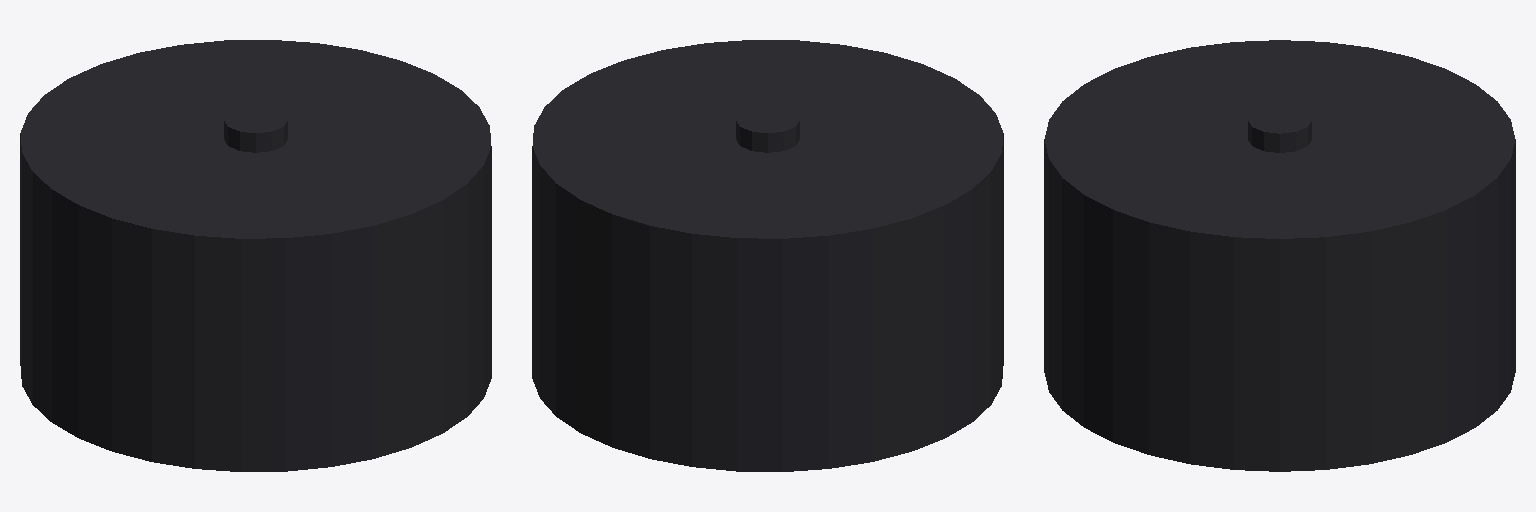
The robot description file, URDF, robot "cb_button_key_dot3":
<?xml version="1.0"?>
<!-- A15 keypad key (dot3). Generated by FoundationTouch tools/contactbench/button_assets.py -->
<robot name="cb_button_key_dot3">
  <material name="c"><color rgba="0.20 0.20 0.22 1.0"/></material>
  <link name="object">
    <visual><origin xyz="0 0 0" rpy="0 0 0"/><geometry><mesh filename="button_key_dot3.obj" scale="1 1 1"/></geometry><material name="c"/></visual>
    <collision><origin xyz="0 0 0" rpy="0 0 0"/><geometry><mesh filename="coll_00.obj" scale="1 1 1"/></geometry></collision>
    <collision><origin xyz="0 0 0" rpy="0 0 0"/><geometry><mesh filename="coll_01.obj" scale="1 1 1"/></geometry></collision>
    <inertial><mass value="0.005000"/><origin xyz="0 0 0" rpy="0 0 0"/><inertia ixx="2.112500e-07" ixy="0" ixz="0" iyy="2.112500e-07" iyz="0" izz="3.025000e-07"/></inertial>
  </link>
</robot>

--- Render facts (derived) ---
Views: 3 orthographic renders of the robot side by side, from view 1: azimuth 30°, elevation 25°; view 2: azimuth 150°, elevation 25°; view 3: azimuth 270°, elevation 25°.
Model cb_button_key_dot3 with 1 links and 0 joints (none), rooted at object, posed every joint at zero.
Links seen in each view (by area): view 1: object; view 2: object; view 3: object.
Link boxes in pixels (x1,y1,x2,y2): object: [20, 40, 491, 471]; object: [532, 40, 1003, 471]; object: [1044, 40, 1515, 471].
Size in the robot's own frame: 0.022 by 0.022 by 0.013 metres.
1 mesh visuals loaded from 1 distinct referenced files (1 OBJ).
